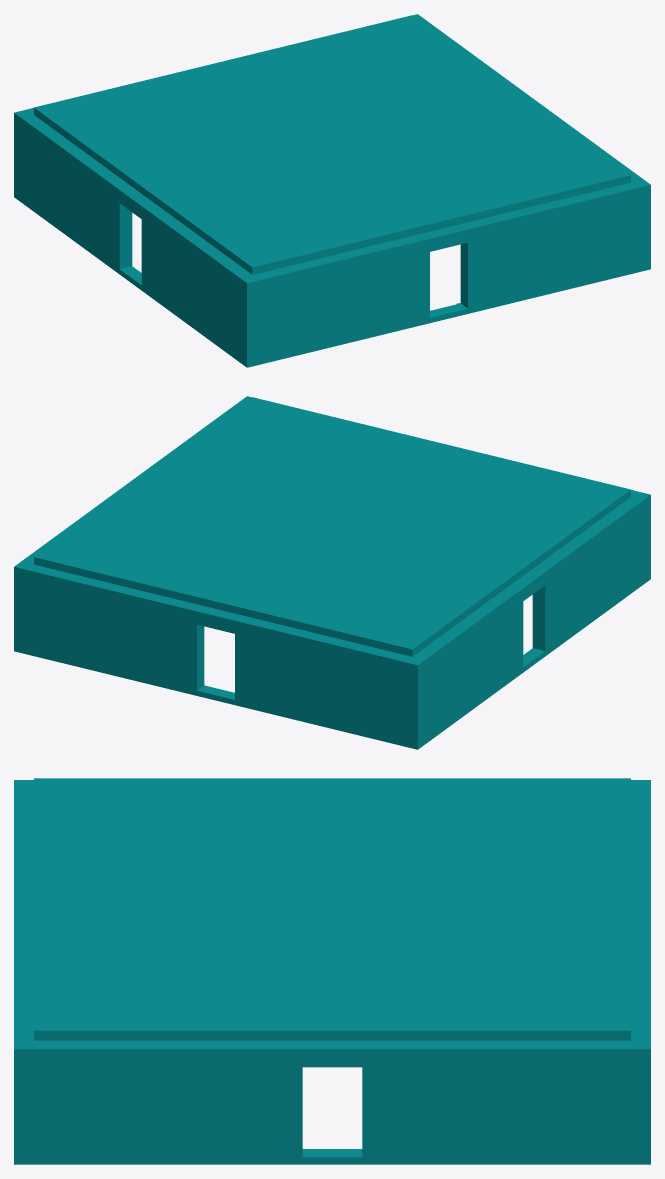
The model's file is Dungeon Room.fbx.
3 views of the same model, one above another, from view 1: azimuth 30°, elevation 25°; view 2: azimuth 150°, elevation 25°; view 3: azimuth 270°, elevation 25° (orthographic). The views are drawn at different scales.
Parts seen in each view (by area): view 1: 3DGeom~5; view 2: 3DGeom~5; view 3: 3DGeom~5.
Part boxes in pixels (left/top/right/bottom): 3DGeom~5: left=14, top=14, right=650, bottom=367; 3DGeom~5: left=14, top=396, right=650, bottom=749; 3DGeom~5: left=14, top=778, right=650, bottom=1164.
Bounding box in the file's own units: 16 × 16 × 3.48.
